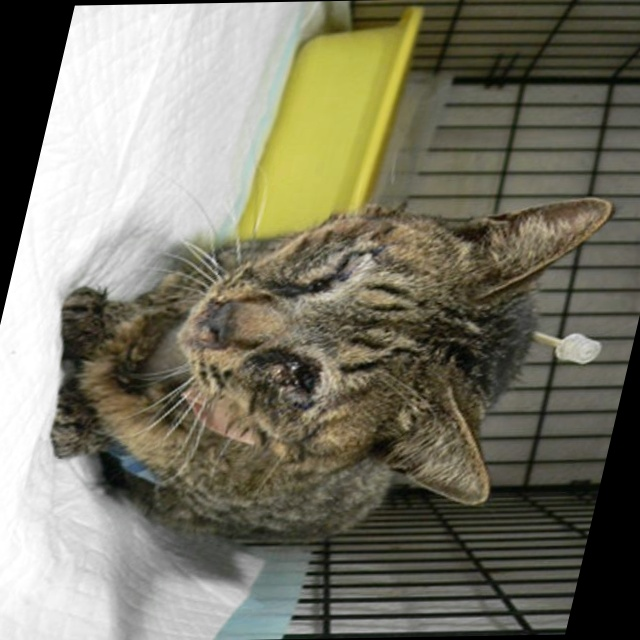eye_infection: (272, 362, 327, 400)
